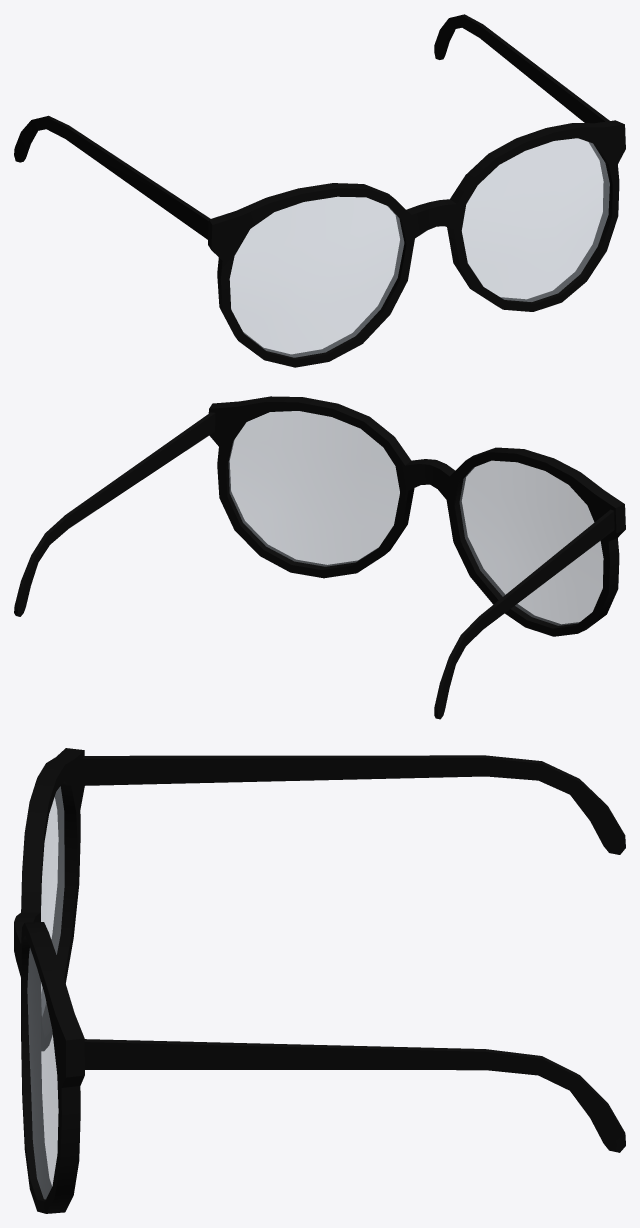
File: ButterflySunglasses.fbx
3 renders of one model, top to bottom at view 1: azimuth 30°, elevation 25°; view 2: azimuth 150°, elevation 25°; view 3: azimuth 270°, elevation 25°, orthographic. The views are drawn at different scales.
Visible parts, largest first — view 1: ButterflySunglasses; view 2: ButterflySunglasses; view 3: ButterflySunglasses.
Part boxes in pixels (x1,y1,x2,y2): ButterflySunglasses: (14, 14, 625, 367); ButterflySunglasses: (14, 396, 625, 719); ButterflySunglasses: (14, 748, 625, 1213).
Size of the model in its own units: 71.9 by 27.83 by 61.73.
